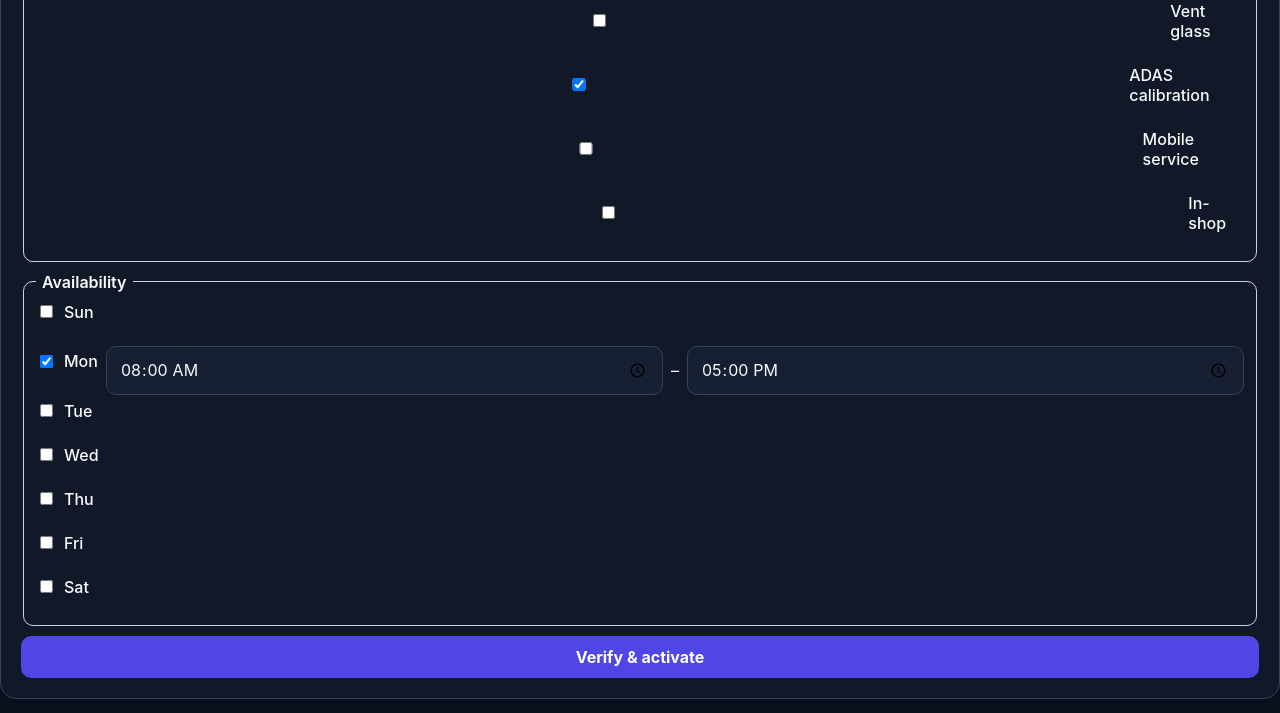
Operators screen › lists techs with status + qualification tags, and verifies a pending tech
The image size is (1280, 713).
(page scrolled)
Click the button "Verify & activate" at [640, 657], box left=21, top=636, right=1259, bottom=678
(page scrolled)
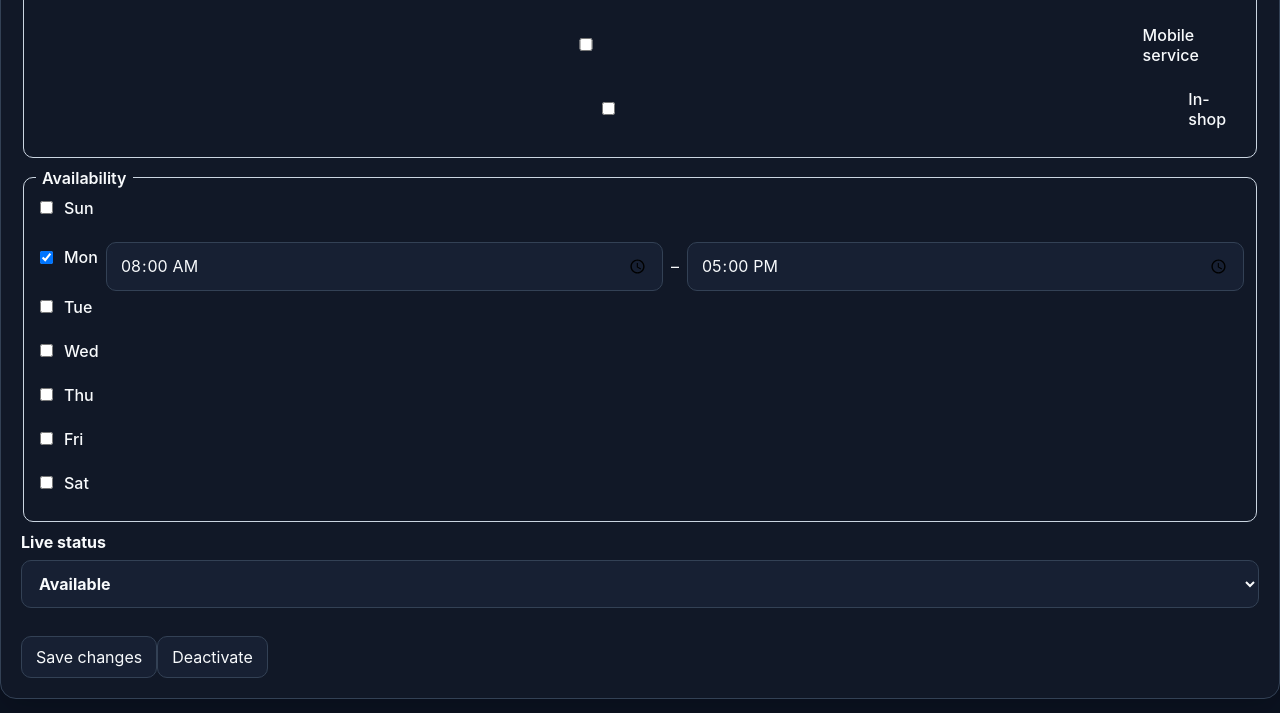
Expected: the button "Deactivate" is shown, left=157, top=636, right=268, bottom=678
